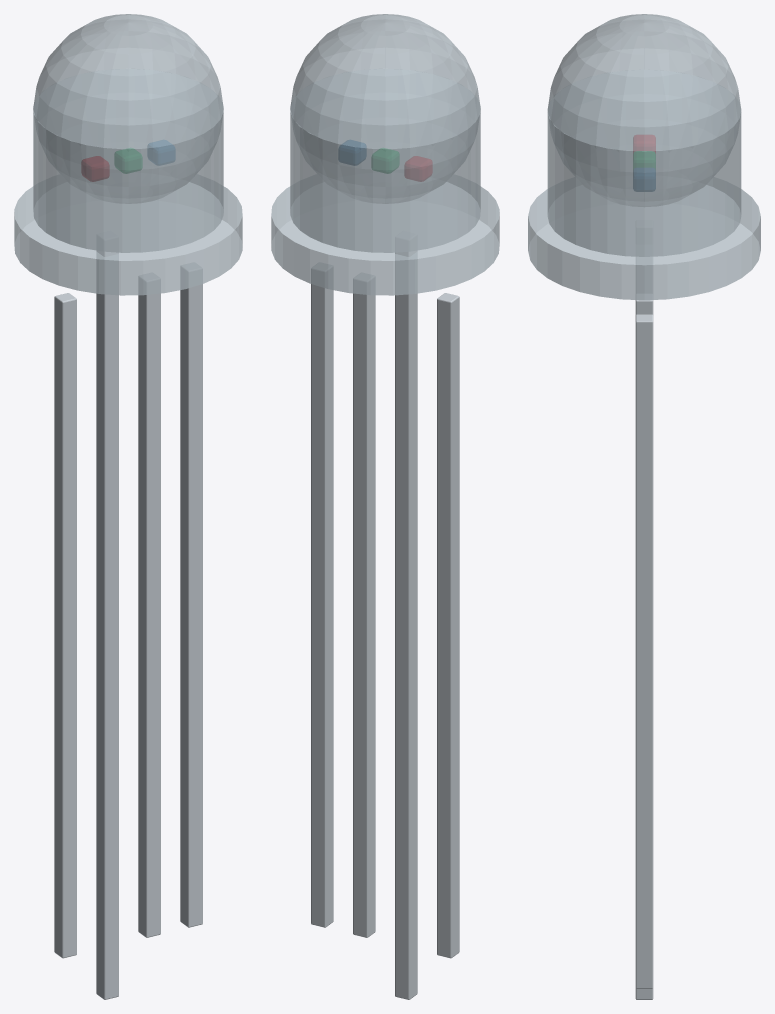
File: rgb-led.glb
3 renders of one model, left to right at view 1: azimuth 30°, elevation 25°; view 2: azimuth 150°, elevation 25°; view 3: azimuth 270°, elevation 25°, orthographic.
Parts seen in each view (by area): view 1: Static body • silver, Static body • glass, Static body • blue, Static body • red, Static body • green; view 2: Static body • silver, Static body • glass, Static body • blue, Static body • red, Static body • green; view 3: Static body • glass, Static body • silver, Static body • blue.
Part boxes in pixels (x1,y1,x2,y2): Static body • silver: (54, 250, 202, 999); Static body • glass: (14, 14, 242, 295); Static body • blue: (148, 140, 174, 165); Static body • red: (82, 156, 108, 181); Static body • green: (115, 148, 141, 173); Static body • silver: (311, 250, 459, 999); Static body • glass: (271, 14, 499, 295); Static body • blue: (339, 140, 365, 165); Static body • red: (405, 156, 431, 181); Static body • green: (372, 148, 398, 173); Static body • glass: (528, 14, 760, 300); Static body • silver: (635, 257, 653, 999); Static body • blue: (633, 168, 655, 191).
Bounding box in the file's own units: 6 × 28 × 6.
